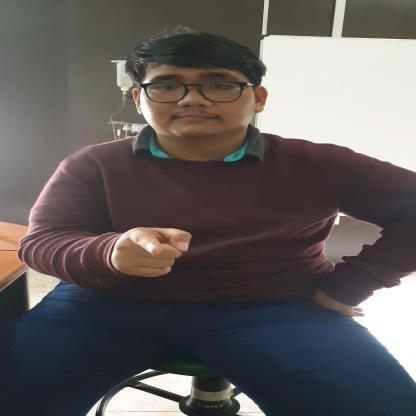Kamu: (106, 224, 196, 280)
